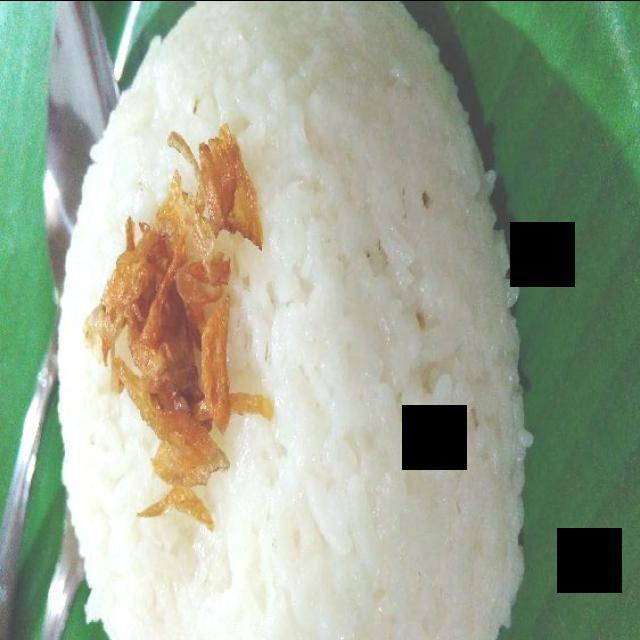rice: (55, 0, 533, 640)
